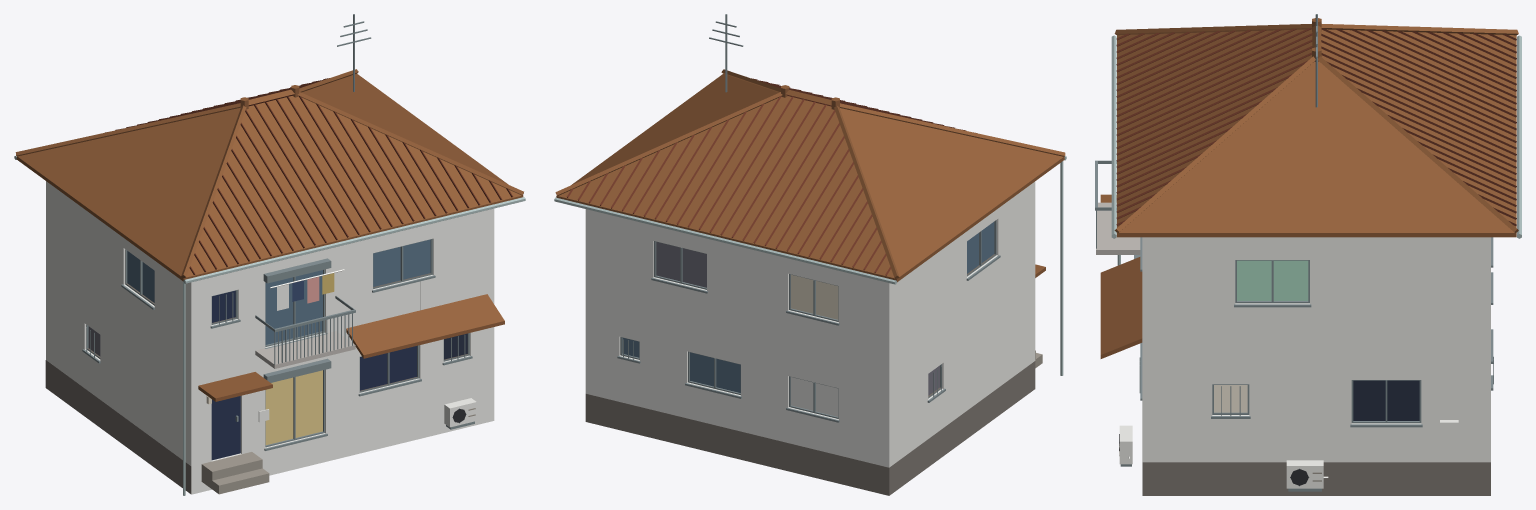
File: tb_house_tile_2f_01_c.fbx
3 renders of one model, left to right at view 1: azimuth 30°, elevation 25°; view 2: azimuth 150°, elevation 25°; view 3: azimuth 270°, elevation 25°, orthographic. The views are drawn at different scales.
Visible parts, largest first — view 1: tb_house_tile_2f_01_c; view 2: tb_house_tile_2f_01_c; view 3: tb_house_tile_2f_01_c.
Part boxes in pixels (bbox=[...]): tb_house_tile_2f_01_c: bbox=[14, 14, 525, 495]; tb_house_tile_2f_01_c: bbox=[554, 14, 1066, 495]; tb_house_tile_2f_01_c: bbox=[1095, 14, 1521, 495].
Size of what is drawn, in the model's own units: 10.2 by 10.5 by 9.18.
3 materials, 3 textured.
